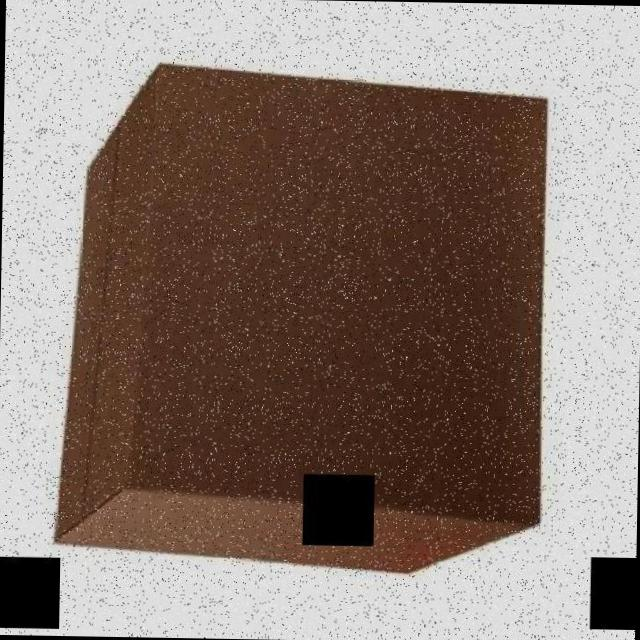box: (49, 58, 558, 583)
